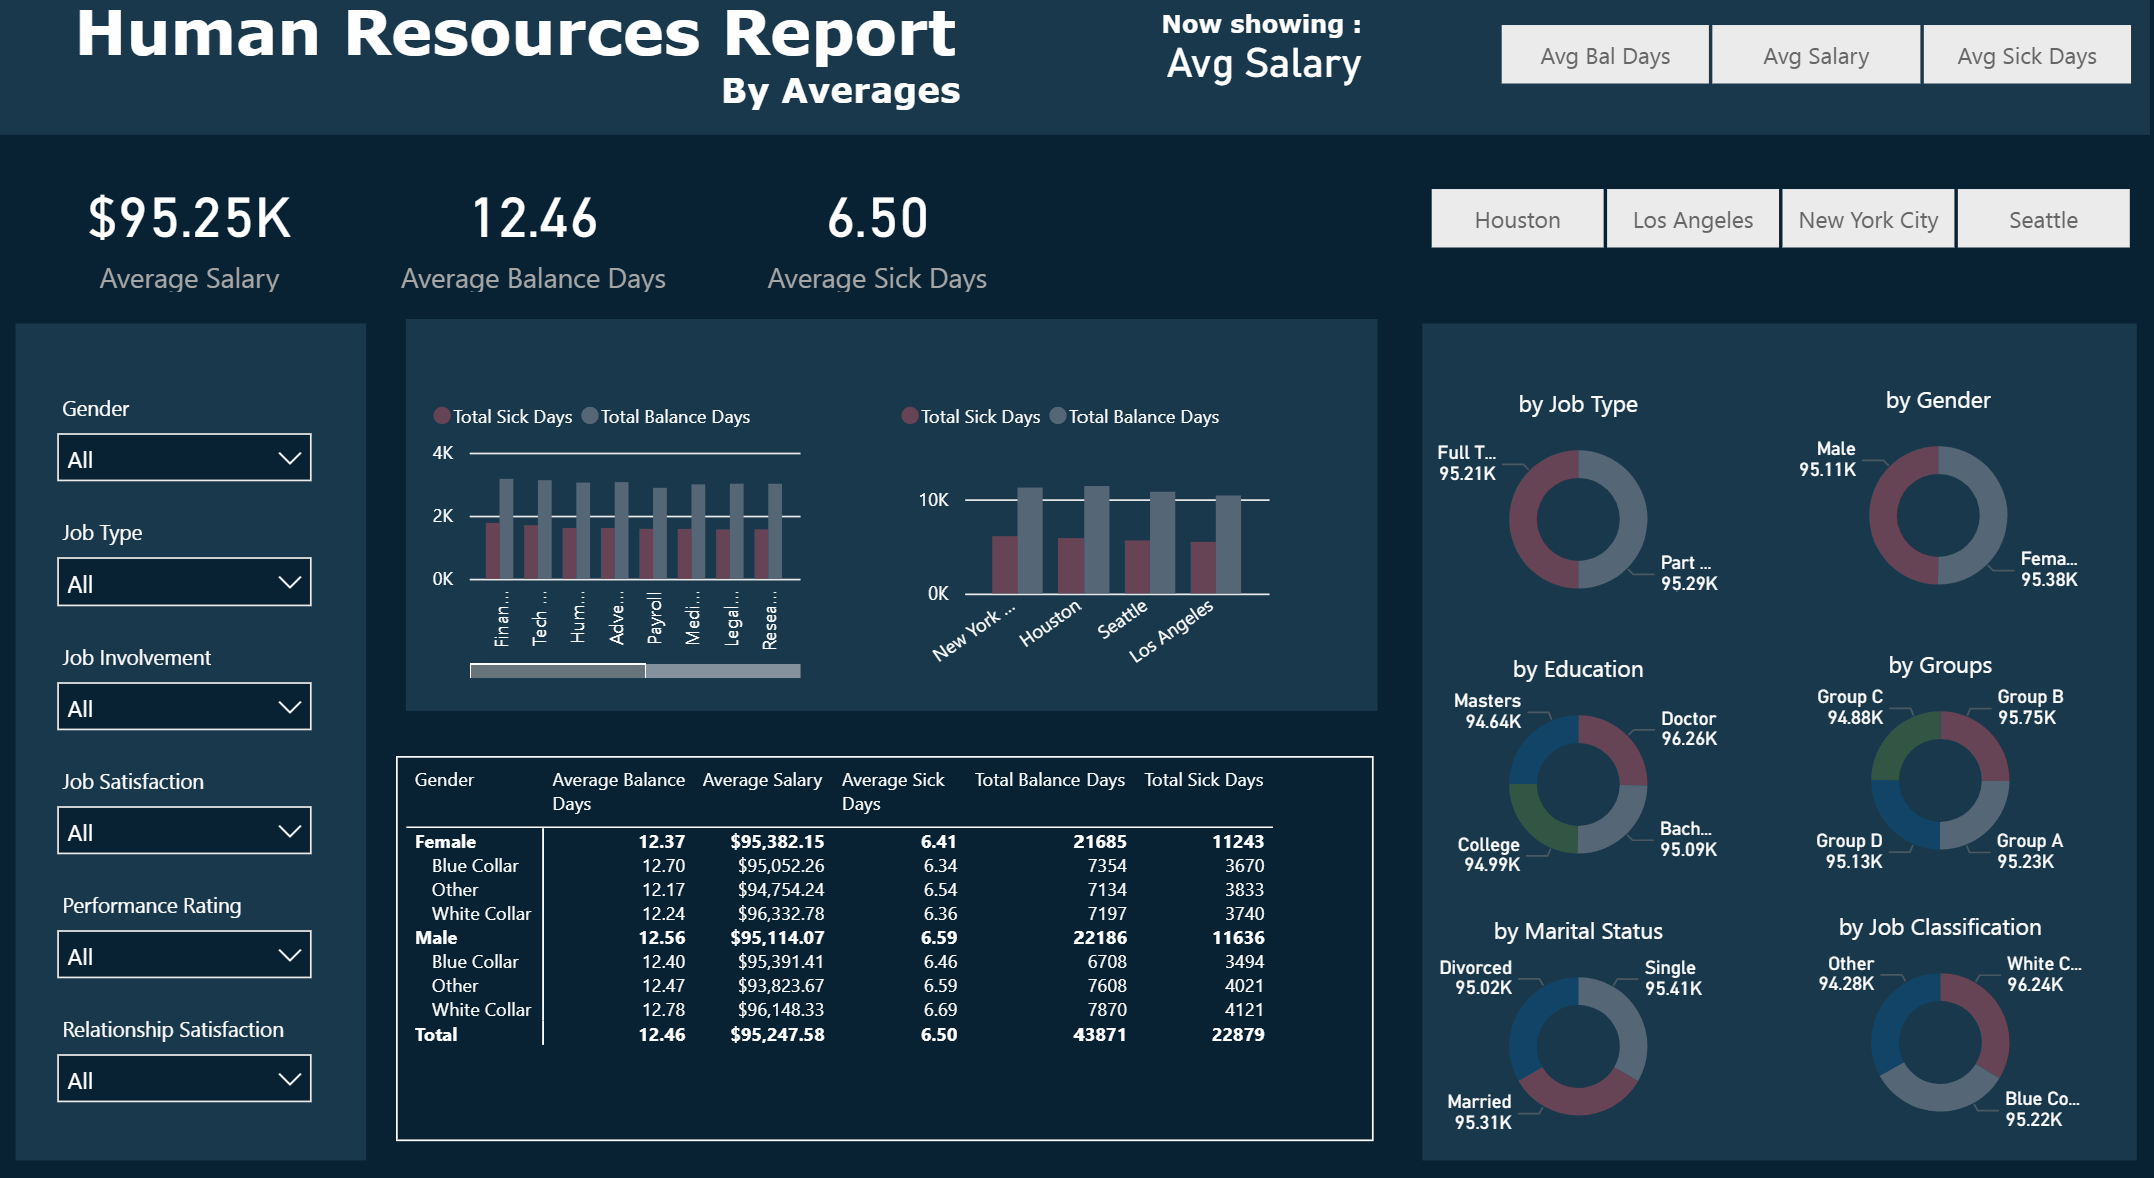

The page's visual inventory and layout, read from the dashboard file:
{"tool":"powerbi","page":{"name":"Average Report","canvas":[1280,720],"ordinal":1},"visuals":[{"type":"basicShape","box":[840,208,424,496],"z":0},{"type":"basicShape","box":[248,208,576,232],"z":1000},{"type":"basicShape","box":[24,208,208,496],"z":2000},{"type":"card","fields":{"Values":["All Measures.Average Salary"]},"box":[40,120,176,80],"z":3000},{"type":"card","fields":{"Values":["All Measures.Average Balance Days"]},"box":[240,120,176,80],"z":4000},{"type":"card","fields":{"Values":["All Measures.Average Sick Days"]},"box":[440,120,176,80],"z":5000},{"type":"pivotTable","fields":{"Rows":["Human Resources.Gender","Human Resources.Job Classification"],"Values":["All Measures.Average Balance Days","All Measures.Average Salary","All Measures.Average Sick Days","All Measures.Total Balance Days","All Measures.Total Sick Days"]},"box":[248,464,568,224],"z":6000},{"type":"basicShape","box":[0,16,1280,88],"z":7000},{"type":"textbox","box":[56,16,544,80],"z":8000},{"type":"textbox","box":[688,24.9,152,32],"z":9000},{"type":"card","fields":{"Values":["All Measures.Measure Selection Avg"]},"box":[664,40.9,176,40],"z":10000},{"type":"donutChart","title":"by Gender","fields":{"Category":["Human Resources.Gender"],"Y":["All Measures.Measure Logic Avg"]},"box":[1056,248,176,136],"z":11000},{"type":"donutChart","title":"by Groups","fields":{"Category":["Human Resources.Groups"],"Y":["All Measures.Measure Logic Avg"]},"box":[1056.9,401.8,176,136],"z":12000},{"type":"donutChart","title":"by Job Classification","fields":{"Category":["Human Resources.Job Classification"],"Y":["All Measures.Measure Logic Avg"]},"box":[1056.9,553.8,176,136],"z":13000},{"type":"donutChart","title":"by Education","fields":{"Category":["Human Resources.Education"],"Y":["All Measures.Measure Logic Avg"]},"box":[847.3,403.8,176,136],"z":14000},{"type":"donutChart","title":"by Job Type","fields":{"Category":["Human Resources.Job Type"],"Y":["All Measures.Measure Logic Avg"]},"box":[846.4,250,176,136],"z":15000},{"type":"donutChart","title":"by Marital Status","fields":{"Category":["Human Resources.Marital Status"],"Y":["All Measures.Measure Logic Avg"]},"box":[847.3,555.8,176,136],"z":16000},{"type":"clusteredColumnChart","fields":{"Y":["All Measures.Total Sick Days","All Measures.Total Balance Days"],"Category":["Human Resources.Departmets"]},"box":[264,248,224,176],"z":17000},{"type":"clusteredColumnChart","fields":{"Y":["All Measures.Total Sick Days","All Measures.Total Balance Days"],"Category":["Human Resources.Business Unit"]},"box":[536,248,224,176],"z":18000},{"type":"slicer","fields":{"Values":["Human Resources.Gender"]},"box":[40.3,249.1,168,64],"z":19000},{"type":"slicer","fields":{"Values":["Human Resources.Job Type"]},"box":[40.3,321.1,168,64],"z":20000},{"type":"slicer","fields":{"Values":["Human Resources.Job Involvement"]},"box":[40.3,393.1,168,64],"z":21000},{"type":"slicer","fields":{"Values":["Human Resources.Job Satisfaction"]},"box":[40.3,465.1,168,64],"z":22000},{"type":"slicer","fields":{"Values":["Human Resources.Performance Rating"]},"box":[40.3,537.1,168,64],"z":23000},{"type":"slicer","fields":{"Values":["Human Resources.Relationship Satisfaction"]},"box":[40.3,609.1,168,64],"z":24000},{"type":"slicer","fields":{"Values":["Human Resources.Business Unit"]},"box":[824,128,456,48],"z":25000},{"type":"slicer","fields":{"Values":["Avg Metrics.Measure"]},"box":[864,32,416,48],"z":26000}]}

Visuals, with their boxes in screenshot pixels (x1, y1, x2, y2), scaled from the page's 1280x720 canvas onto the 2154x1178 screenshot:
basicShape: [left=1414, top=340, right=2127, bottom=1152]
basicShape: [left=417, top=340, right=1387, bottom=720]
basicShape: [left=40, top=340, right=390, bottom=1152]
card - All Measures.Average Salary: [left=67, top=196, right=363, bottom=327]
card - All Measures.Average Balance Days: [left=404, top=196, right=700, bottom=327]
card - All Measures.Average Sick Days: [left=740, top=196, right=1037, bottom=327]
pivotTable - Human Resources.Gender x Human Resources.Job Classification: [left=417, top=759, right=1373, bottom=1126]
basicShape: [left=0, top=26, right=2153, bottom=170]
textbox: [left=94, top=26, right=1010, bottom=157]
textbox: [left=1158, top=41, right=1414, bottom=93]
card - All Measures.Measure Selection Avg: [left=1117, top=67, right=1414, bottom=132]
"by Gender" donutChart: [left=1777, top=406, right=2073, bottom=628]
"by Groups" donutChart: [left=1779, top=657, right=2075, bottom=880]
"by Job Classification" donutChart: [left=1779, top=906, right=2075, bottom=1129]
"by Education" donutChart: [left=1426, top=661, right=1722, bottom=883]
"by Job Type" donutChart: [left=1424, top=409, right=1721, bottom=632]
"by Marital Status" donutChart: [left=1426, top=909, right=1722, bottom=1132]
clusteredColumnChart - All Measures.Total Sick Days x All Measures.Total Balance Days: [left=444, top=406, right=821, bottom=694]
clusteredColumnChart - All Measures.Total Sick Days x All Measures.Total Balance Days: [left=902, top=406, right=1279, bottom=694]
slicer - Human Resources.Gender: [left=68, top=408, right=351, bottom=512]
slicer - Human Resources.Job Type: [left=68, top=525, right=351, bottom=630]
slicer - Human Resources.Job Involvement: [left=68, top=643, right=351, bottom=748]
slicer - Human Resources.Job Satisfaction: [left=68, top=761, right=351, bottom=866]
slicer - Human Resources.Performance Rating: [left=68, top=879, right=351, bottom=983]
slicer - Human Resources.Relationship Satisfaction: [left=68, top=997, right=351, bottom=1101]
slicer - Human Resources.Business Unit: [left=1387, top=209, right=2153, bottom=288]
slicer - Avg Metrics.Measure: [left=1454, top=52, right=2153, bottom=131]
